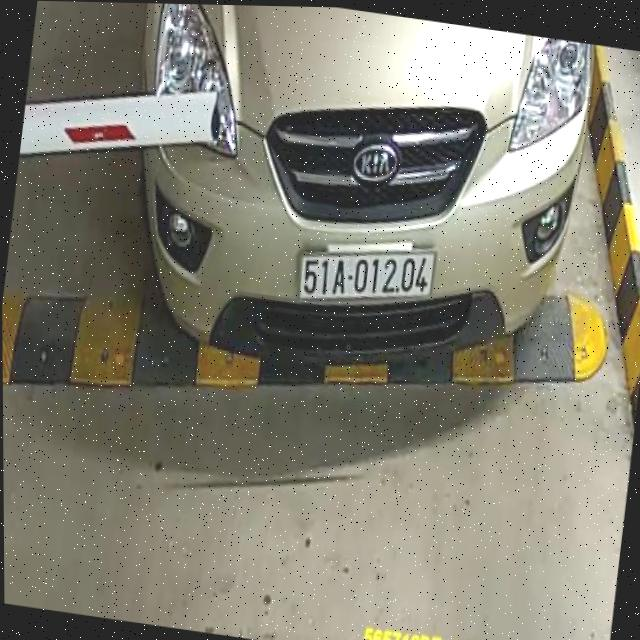car: (93, 2, 611, 415)
plate: (282, 233, 443, 317)
